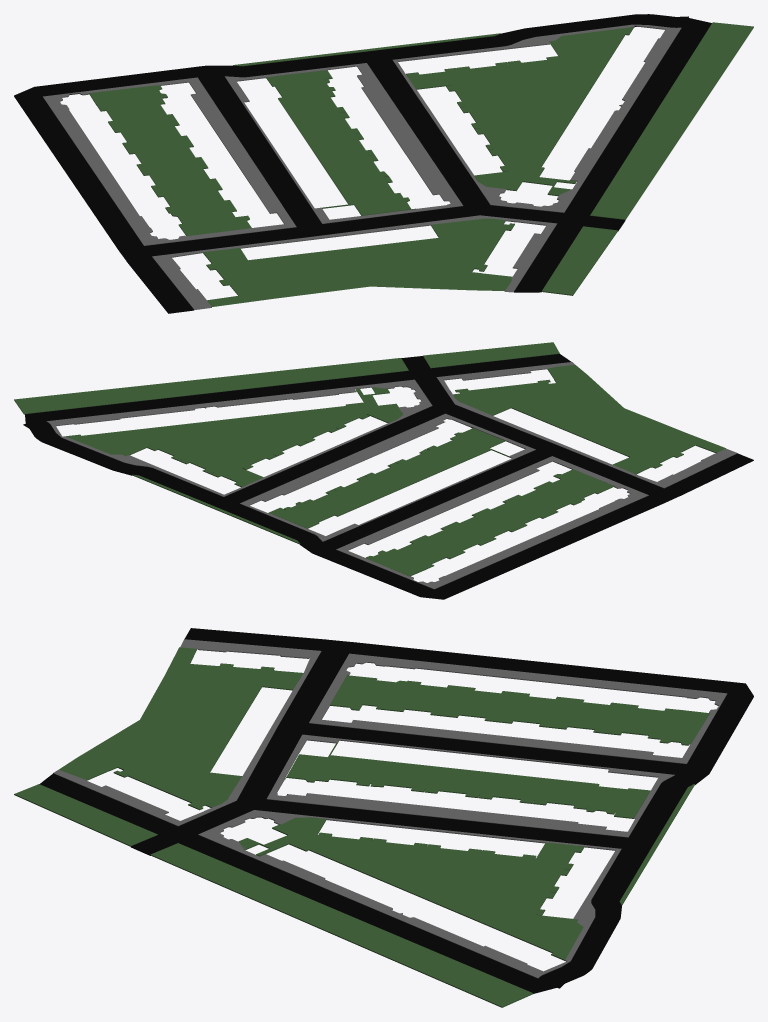
The model's file is pgc_vloer.glb.
3 renders of one model, top to bottom at view 1: azimuth 30°, elevation 25°; view 2: azimuth 150°, elevation 25°; view 3: azimuth 270°, elevation 25°, orthographic. The views are drawn at different scales.
Visible parts, largest first — view 1: grass, asphalt, concrete_floor; view 2: grass, asphalt, concrete_floor; view 3: grass, asphalt, concrete_floor.
Part boxes in pixels (x1,y1,x2,y2): grass: (89,22,753,307); asphalt: (14,14,711,313); concrete_floor: (43,24,681,310); grass: (14,342,725,576); asphalt: (23,354,753,599); concrete_floor: (46,362,737,589); grass: (14,647,709,1007); asphalt: (39,628,753,993); concrete_floor: (53,639,727,978).
Bounding box in the file's own units: 253 × 0.45 × 209.
